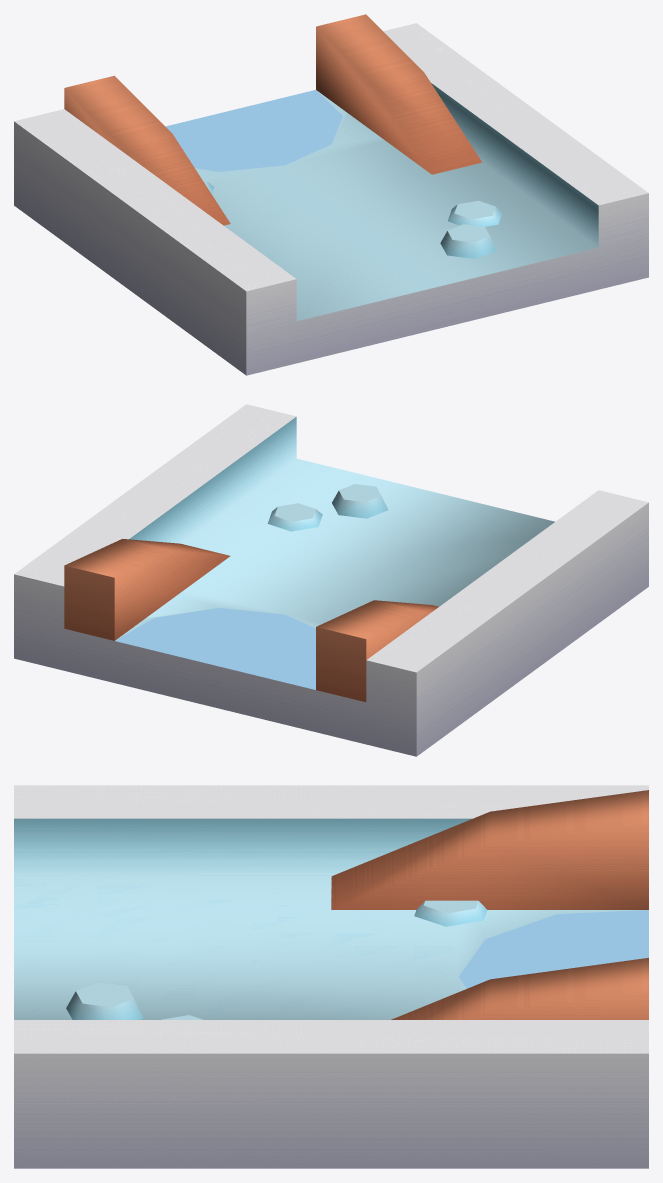
Rendered from snow-tile-river-transition.glb.
3 renders of one model, top to bottom at view 1: azimuth 30°, elevation 25°; view 2: azimuth 150°, elevation 25°; view 3: azimuth 270°, elevation 25°, orthographic. The views are drawn at different scales.
Visible parts, largest first — view 1: snow-tile-river-transition; view 2: snow-tile-river-transition; view 3: snow-tile-river-transition.
Part boxes in pixels (x1,y1,x2,y2): snow-tile-river-transition: [14, 14, 648, 375]; snow-tile-river-transition: [14, 404, 648, 756]; snow-tile-river-transition: [14, 785, 648, 1168].
Bounding box in the file's own units: 3 × 0.75 × 3.
Materials: 1 (1 with a texture image).
